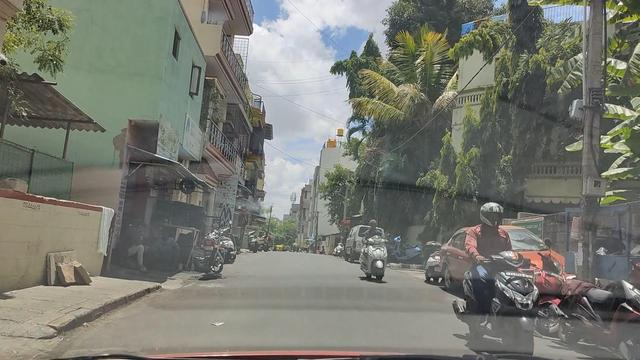LMV: (466, 200, 543, 360), (360, 220, 391, 279)
